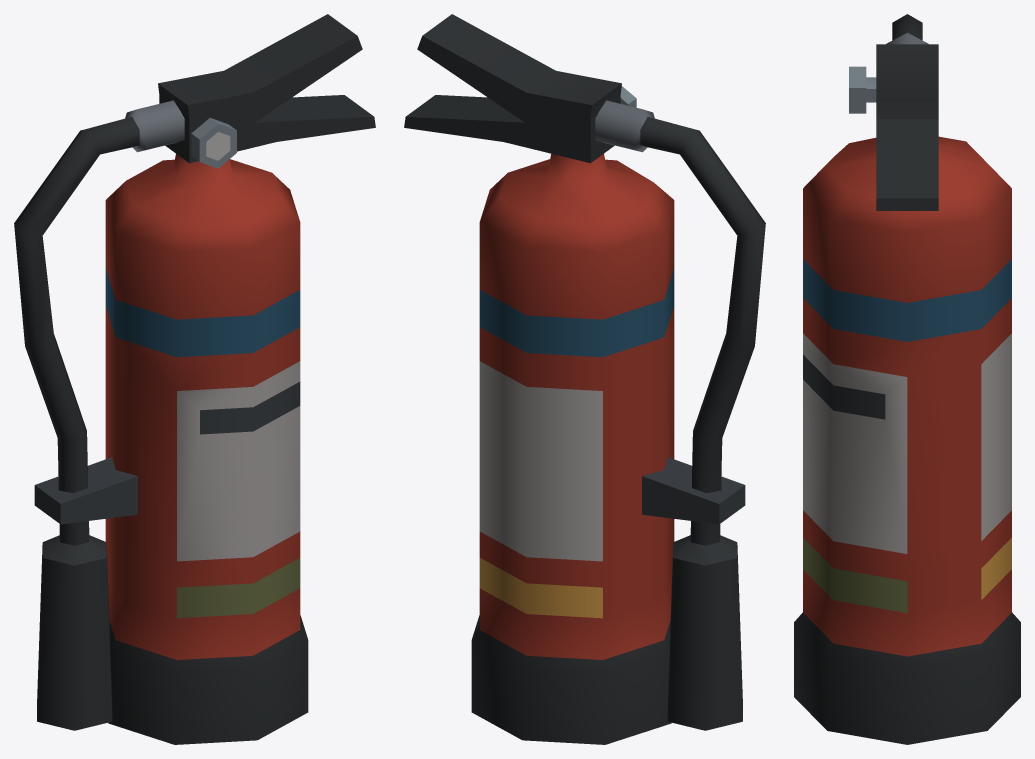
Rendered from SM_Prop_Fire_Extinguisher_01.obj.
The picture shows the model from 3 angles, left to right: view 1: azimuth 30°, elevation 25°; view 2: azimuth 150°, elevation 25°; view 3: azimuth 270°, elevation 25°; orthographic projection. The views are drawn at different scales.
Visible parts, largest first — view 1: SM_Prop_Fire_Extinguisher_01_Mat_SwatchOverlay_PolygonOffice_01_; view 2: SM_Prop_Fire_Extinguisher_01_Mat_SwatchOverlay_PolygonOffice_01_; view 3: SM_Prop_Fire_Extinguisher_01_Mat_SwatchOverlay_PolygonOffice_01_.
Boxes of the visible parts, box(x1,y1,x2,y2) form: SM_Prop_Fire_Extinguisher_01_Mat_SwatchOverlay_PolygonOffice_01_: box(14, 14, 375, 744); SM_Prop_Fire_Extinguisher_01_Mat_SwatchOverlay_PolygonOffice_01_: box(404, 14, 765, 744); SM_Prop_Fire_Extinguisher_01_Mat_SwatchOverlay_PolygonOffice_01_: box(794, 14, 1020, 744).
Size of the model in its own units: 0.3014 by 0.5331 by 0.1645.
Materials: 1 (1 with a texture image).
